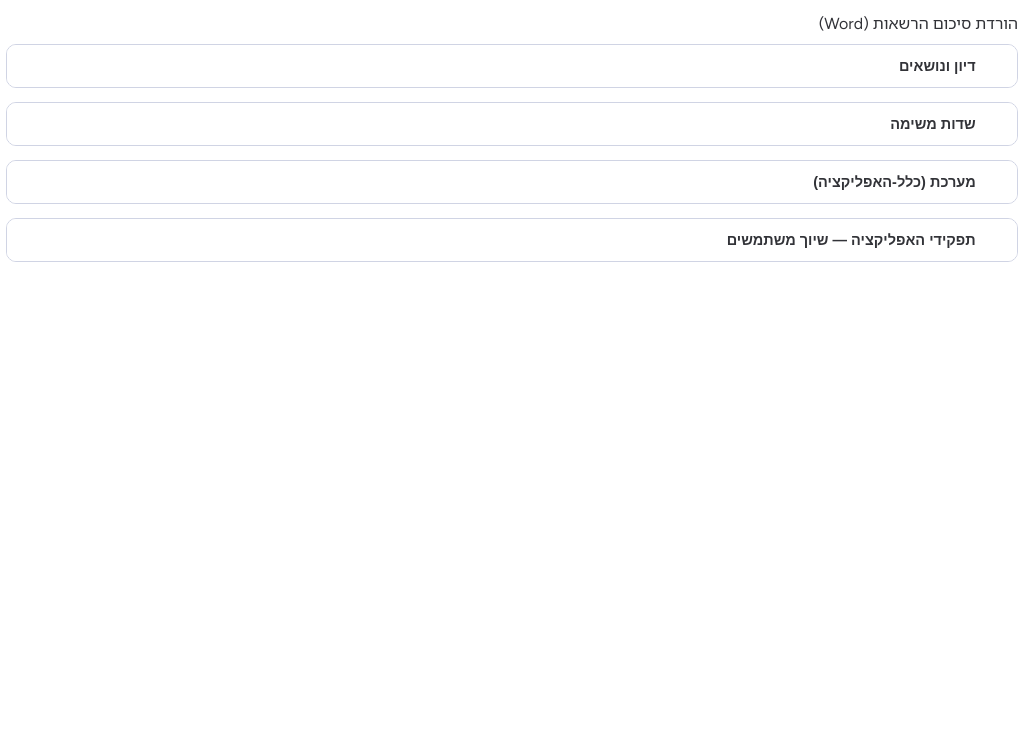
it: round335 — group heading as a rowspanning side cell › renders the group label as a th[scope=rowgroup], not a colSpan row
Click the button "דיון ונושאים" at (937, 66), box [7,45,1017,87]
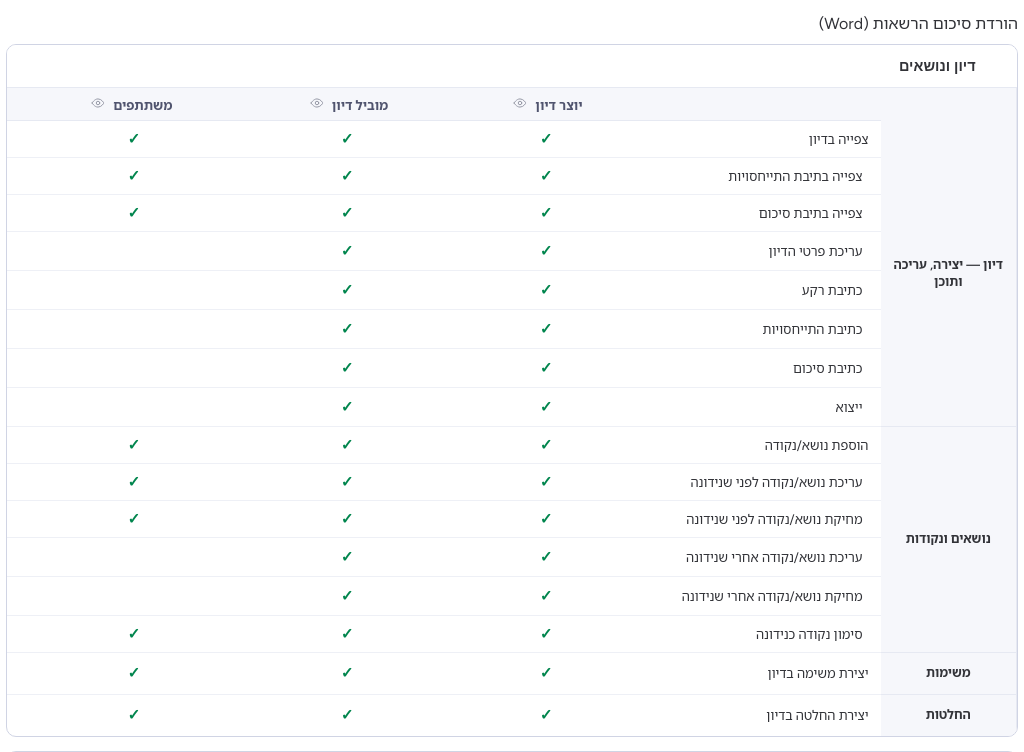
Now the column heading "דיון — יצירה, עריכה ותוכן" is shown, box [880,121,1016,426]
